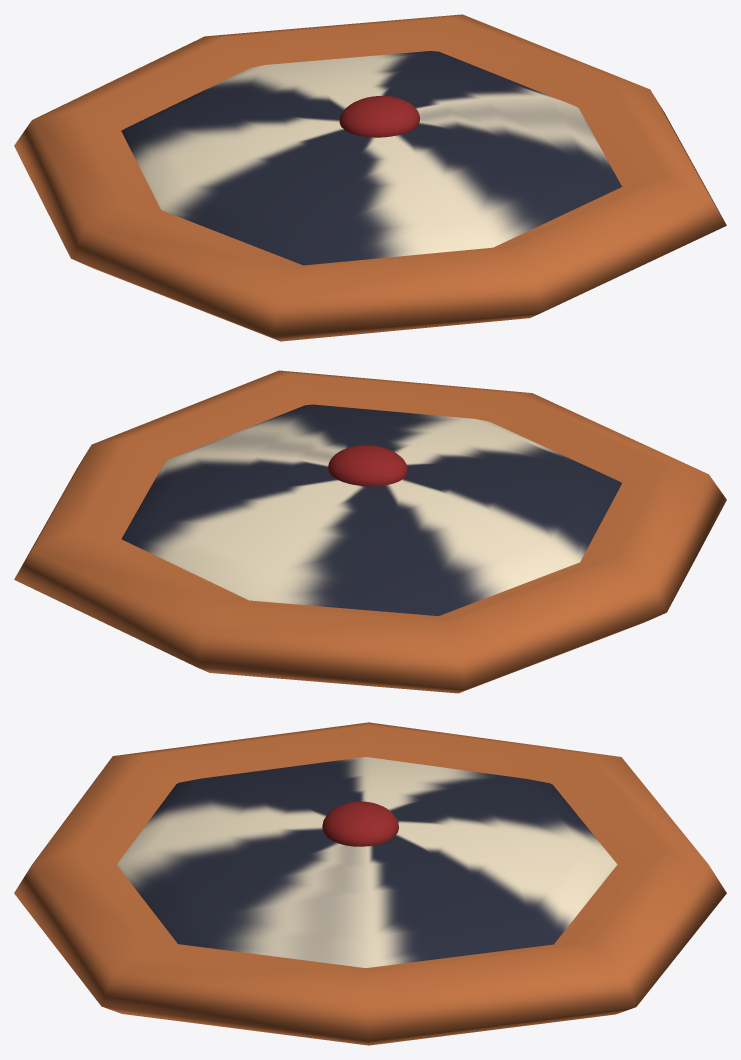
File: Pie.fbx
3 renders of one model, top to bottom at view 1: azimuth 30°, elevation 25°; view 2: azimuth 150°, elevation 25°; view 3: azimuth 270°, elevation 25°, orthographic. The views are drawn at different scales.
Parts seen in each view (by area): view 1: Cube, Cube.001, Sphere; view 2: Cube, Cube.001, Sphere; view 3: Cube, Cube.001, Sphere.
Part boxes in pixels (<box>): Cube: <box>14,14,726,341</box>; Cube.001: <box>121,51,621,265</box>; Sphere: <box>339,96,419,137</box>; Cube: <box>14,370,726,693</box>; Cube.001: <box>121,404,621,616</box>; Sphere: <box>328,445,407,486</box>; Cube: <box>14,722,726,1045</box>; Cube.001: <box>116,757,617,967</box>; Sphere: <box>322,801,398,846</box>.
Bounding box in the file's own units: 303 × 55.86 × 307.
